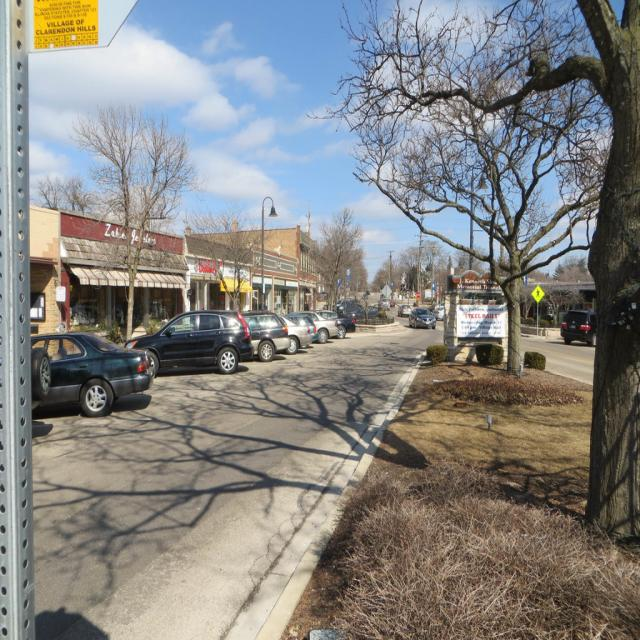car: (406, 308, 435, 324)
